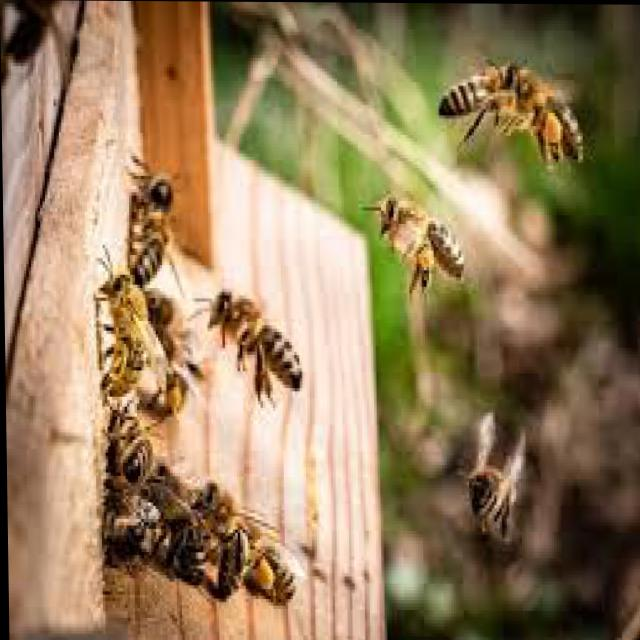Abeille: (191, 269, 311, 405), (354, 174, 482, 296), (193, 473, 312, 601), (87, 244, 156, 405), (437, 50, 546, 142), (456, 416, 527, 537), (118, 152, 175, 280)
